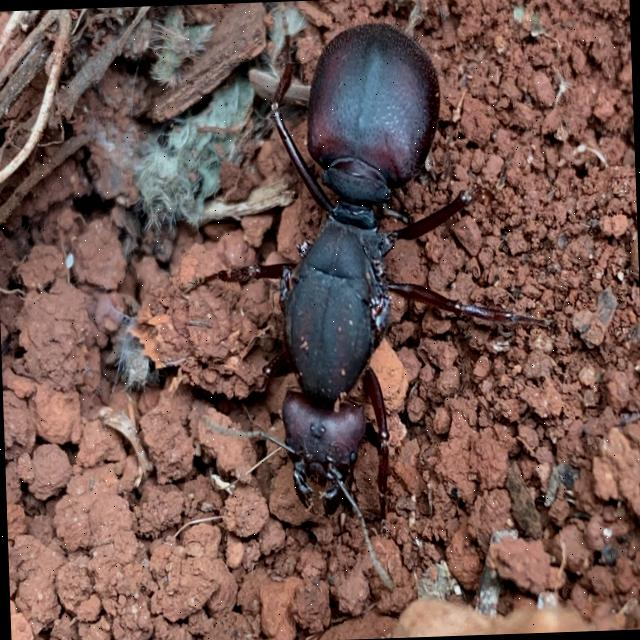Alive-Female-Dealate: (170, 16, 564, 596)
